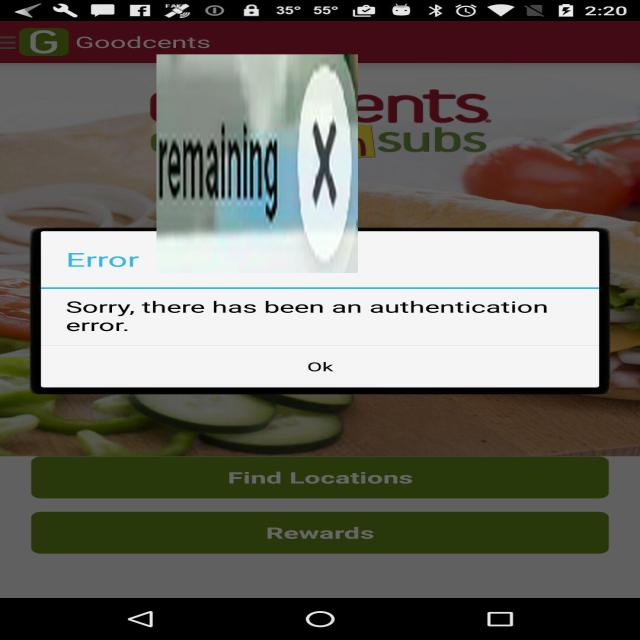misdirection: (156, 54, 358, 273)
